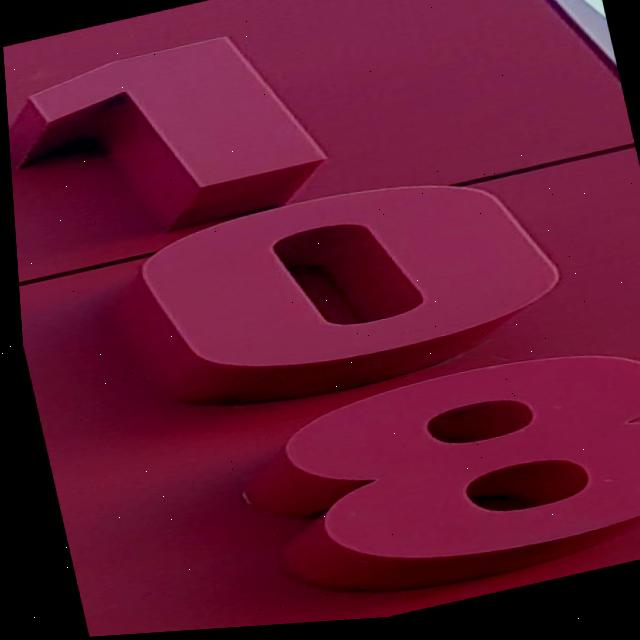character: (101, 136, 608, 414), (247, 317, 640, 612), (1, 0, 391, 237)
